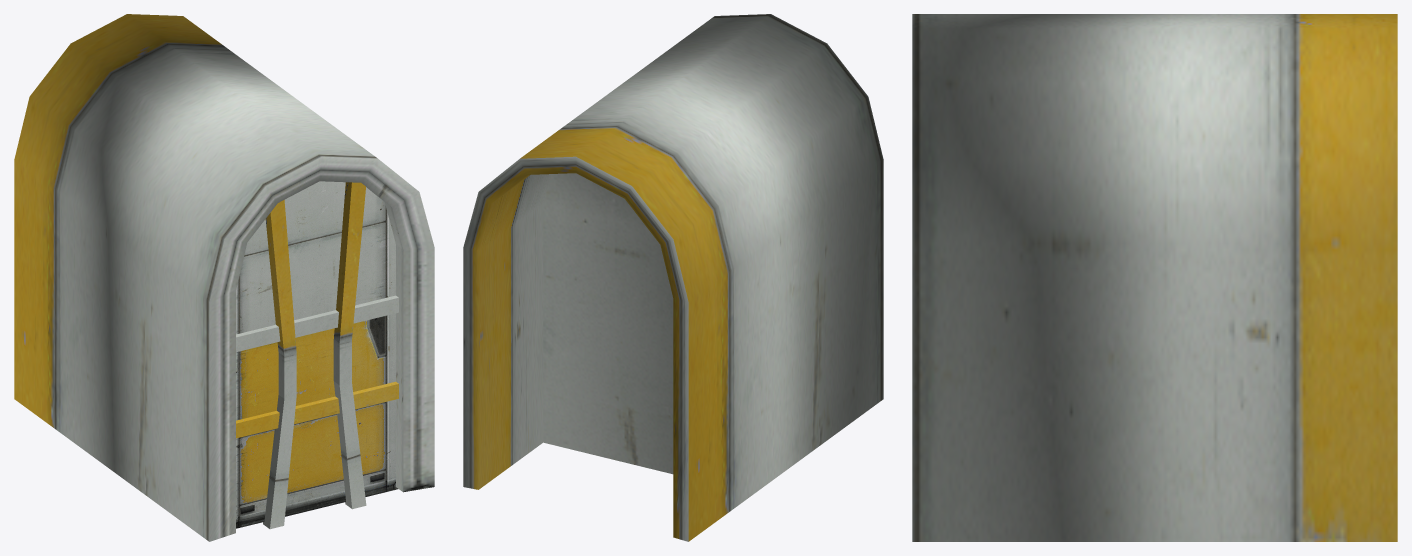
The model's file is portasciANIMADA.fbx.
3 views of the same model, side by side, from view 1: azimuth 30°, elevation 25°; view 2: azimuth 150°, elevation 25°; view 3: azimuth 270°, elevation 25° (orthographic). The views are drawn at different scales.
Parts seen in each view (by area): view 1: Cylinder, Cylinder.001; view 2: Cylinder; view 3: Cylinder.
Part boxes in pixels (x1,y1,x2,y2): Cylinder: [14, 14, 434, 541]; Cylinder.001: [236, 181, 398, 529]; Cylinder: [463, 14, 883, 541]; Cylinder: [912, 14, 1397, 541].
Bounding box in the file's own units: 1.47 × 2.28 × 2.21.
